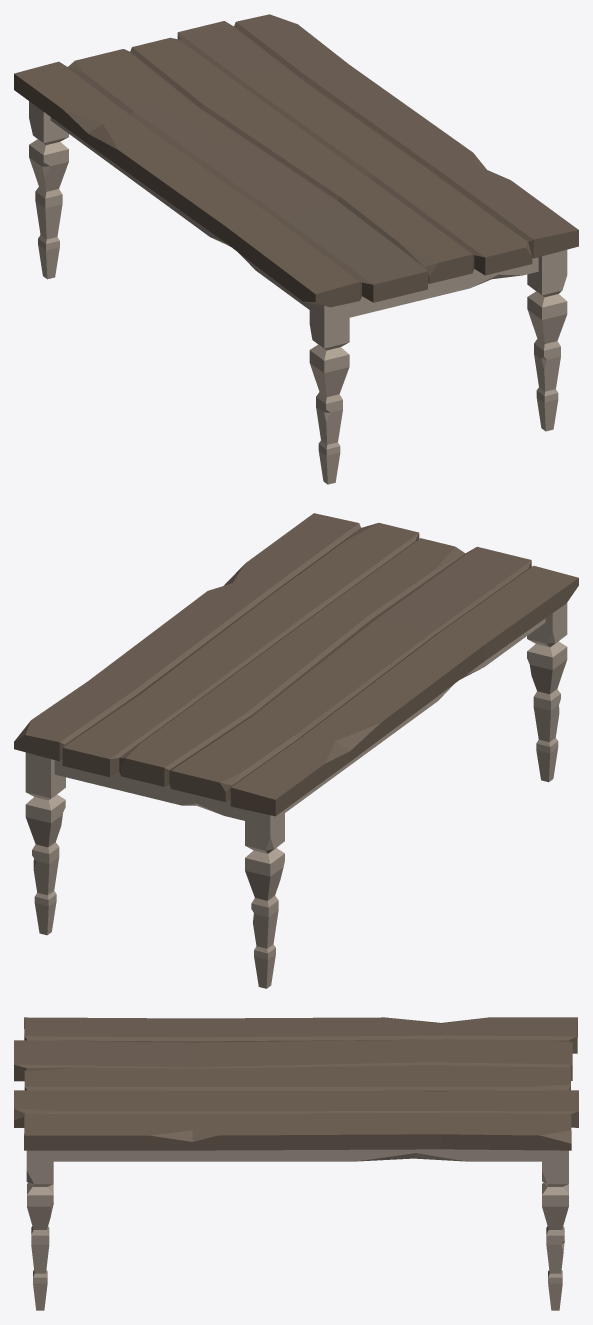
The model's file is SM_Prop_Table_01.glb.
3 renders of one model, top to bottom at view 1: azimuth 30°, elevation 25°; view 2: azimuth 150°, elevation 25°; view 3: azimuth 270°, elevation 25°, orthographic. The views are drawn at different scales.
Parts seen in each view (by area): view 1: SM_Prop_Table_01; view 2: SM_Prop_Table_01; view 3: SM_Prop_Table_01.
Boxes of the visible parts, bbox=[...] form: SM_Prop_Table_01: bbox=[14, 14, 578, 484]; SM_Prop_Table_01: bbox=[14, 513, 578, 988]; SM_Prop_Table_01: bbox=[14, 1017, 578, 1310].
Bounding box in the file's own units: 1.21 × 0.882 × 2.45.
Materials: 1 (1 with a texture image).
